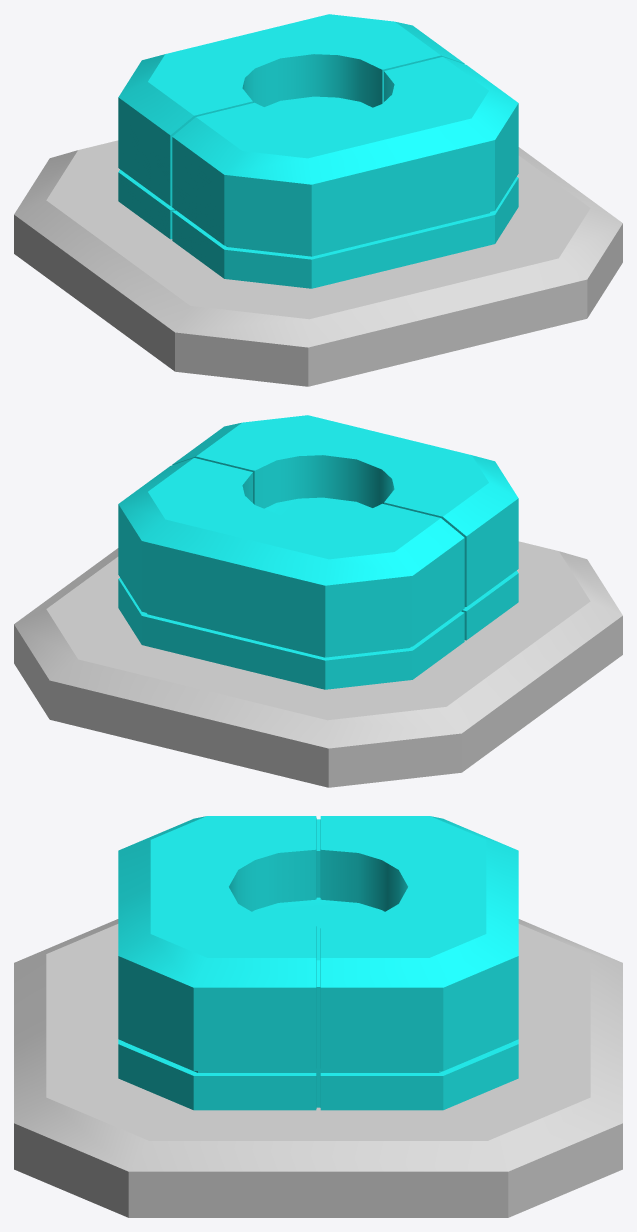
File: stand.gltf
3 renders of one model, top to bottom at view 1: azimuth 30°, elevation 25°; view 2: azimuth 150°, elevation 25°; view 3: azimuth 270°, elevation 25°, orthographic. The views are drawn at different scales.
Visible parts, largest first — view 1: Cube.006; view 2: Cube.006; view 3: Cube.006.
Boxes of the visible parts, bbox=[...] form: Cube.006: bbox=[14, 14, 622, 386]; Cube.006: bbox=[14, 415, 622, 787]; Cube.006: bbox=[14, 816, 622, 1217].
Bounding box in the file's own units: 5.33 × 1.96 × 5.33.
